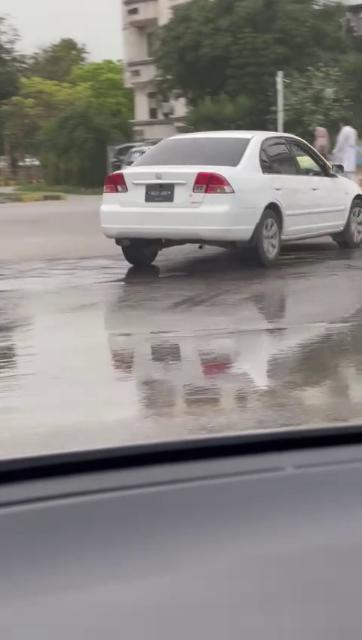plate: (143, 182, 179, 204)
